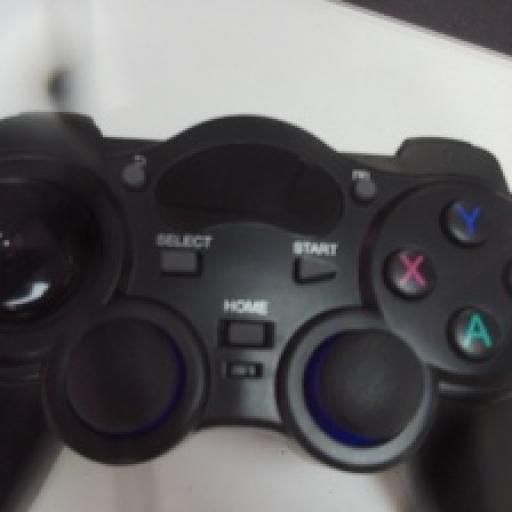game pad: (0, 114, 510, 510)
